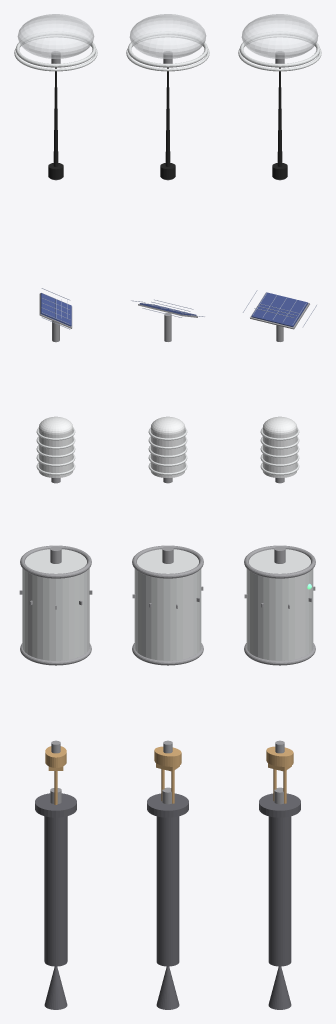
Rendered from sensor_station.glb.
The picture shows the model from 3 angles, left to right: view 1: azimuth 90°, elevation 25°; view 2: azimuth 150°, elevation 25°; view 3: azimuth 330°, elevation 25°; orthographic projection.
Parts seen in each view (by area): view 1: Enclosure_Body, Stake_Shaft, Cap_Dome, Temp_Capsule, Stake_Flange, Enclosure_RimTop, Cap_Rim, Solar_Panel, Stake_Tip, Temp_TopDome, Cap_DripEdge, Enclosure_RimBot (+3 smaller); view 2: Enclosure_Body, Stake_Shaft, Cap_Dome, Temp_Capsule, Stake_Flange, Enclosure_RimTop, Cap_Rim, Stake_Tip, Temp_TopDome, Cap_DripEdge, Moisture_Top, Enclosure_RimBot (+3 smaller); view 3: Enclosure_Body, Stake_Shaft, Cap_Dome, Solar_Panel, Temp_Capsule, Stake_Flange, Enclosure_RimTop, Cap_Rim, Stake_Tip, Temp_TopDome, Cap_DripEdge, Moisture_Top (+3 smaller).
Boxes of the visible parts, <box> form: Enclosure_Body: <box>22,549,89,660</box>; Stake_Shaft: <box>44,816,67,966</box>; Cap_Dome: <box>17,14,94,58</box>; Temp_Capsule: <box>38,428,73,477</box>; Stake_Flange: <box>35,793,76,817</box>; Enclosure_RimTop: <box>20,545,91,578</box>; Cap_Rim: <box>15,31,96,67</box>; Solar_Panel: <box>40,293,71,326</box>; Stake_Tip: <box>44,966,67,1009</box>; Temp_TopDome: <box>38,416,73,434</box>; Cap_DripEdge: <box>14,35,97,71</box>; Enclosure_RimBot: <box>20,643,91,665</box>; Enclosure_Body: <box>134,549,201,660</box>; Stake_Shaft: <box>156,816,179,966</box>; Cap_Dome: <box>129,14,206,58</box>; Temp_Capsule: <box>150,428,185,477</box>; Stake_Flange: <box>147,793,188,817</box>; Enclosure_RimTop: <box>132,545,203,578</box>; Cap_Rim: <box>127,31,208,67</box>; Stake_Tip: <box>156,966,179,1009</box>; Temp_TopDome: <box>150,416,185,434</box>; Cap_DripEdge: <box>126,35,209,71</box>; Moisture_Top: <box>154,746,181,766</box>; Enclosure_RimBot: <box>132,643,203,665</box>; Enclosure_Body: <box>246,549,313,660</box>; Stake_Shaft: <box>268,816,291,966</box>; Cap_Dome: <box>241,14,318,58</box>; Solar_Panel: <box>251,292,308,326</box>; Temp_Capsule: <box>262,428,297,477</box>; Stake_Flange: <box>259,793,300,817</box>; Enclosure_RimTop: <box>244,545,315,578</box>; Cap_Rim: <box>239,31,320,67</box>; Stake_Tip: <box>268,966,291,1009</box>; Temp_TopDome: <box>262,416,297,434</box>; Cap_DripEdge: <box>238,35,321,71</box>; Moisture_Top: <box>266,746,293,766</box>.
Size of the model in its own units: 0.87 by 11.33 by 0.87.
